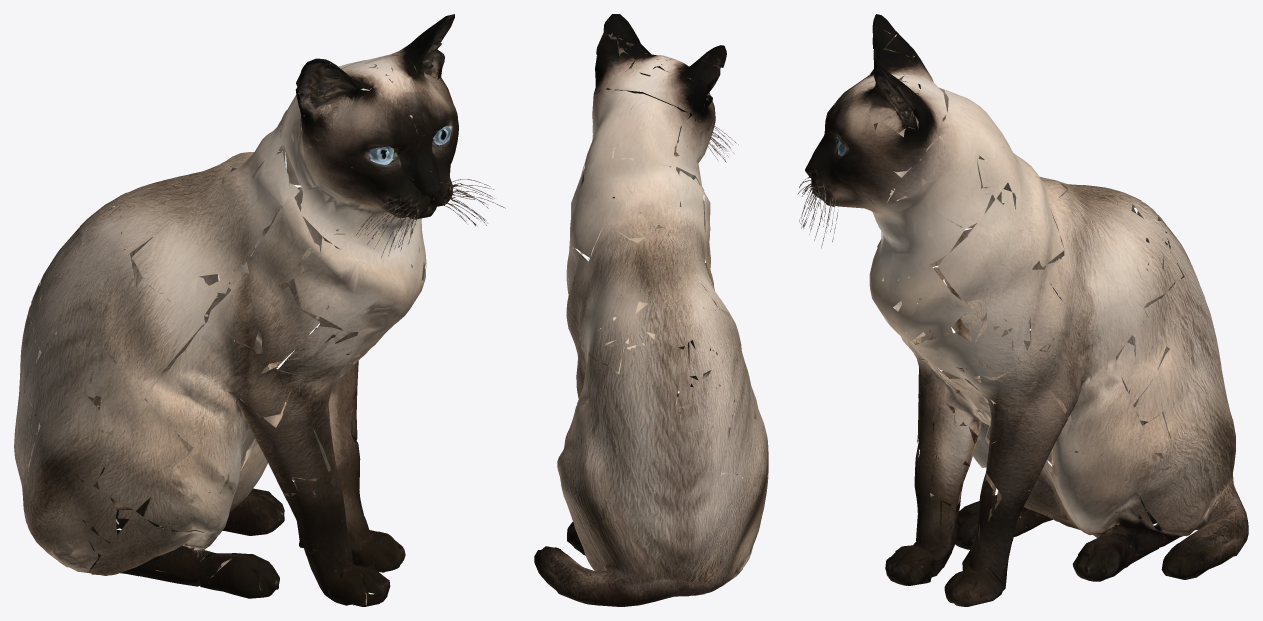
The model's file is cat-still.glb.
3 renders of one model, left to right at view 1: azimuth 30°, elevation 25°; view 2: azimuth 150°, elevation 25°; view 3: azimuth 270°, elevation 25°, orthographic. The views are drawn at different scales.
Visible parts, largest first — view 1: Object_5, Object_4, Object_6, Object_7; view 2: Object_6, Object_5, Object_7, Object_4; view 3: Object_5, Object_6, Object_4, Object_7.
Boxes of the visible parts, left/top/right/bottom form: Object_5: left=24, top=27, right=452, bottom=605; Object_4: left=278, top=14, right=505, bottom=606; Object_6: left=14, top=110, right=363, bottom=586; Object_7: left=143, top=60, right=426, bottom=598; Object_6: left=534, top=137, right=768, bottom=606; Object_5: left=557, top=32, right=768, bottom=595; Object_7: left=580, top=89, right=743, bottom=477; Object_4: left=591, top=14, right=738, bottom=313; Object_5: left=872, top=31, right=1184, bottom=604; Object_6: left=934, top=136, right=1248, bottom=590; Object_4: left=797, top=14, right=970, bottom=585; Object_7: left=886, top=87, right=1011, bottom=606.
Bounding box in the file's own units: 1.08 × 1.89 × 1.43.
1 material, 1 textured.
